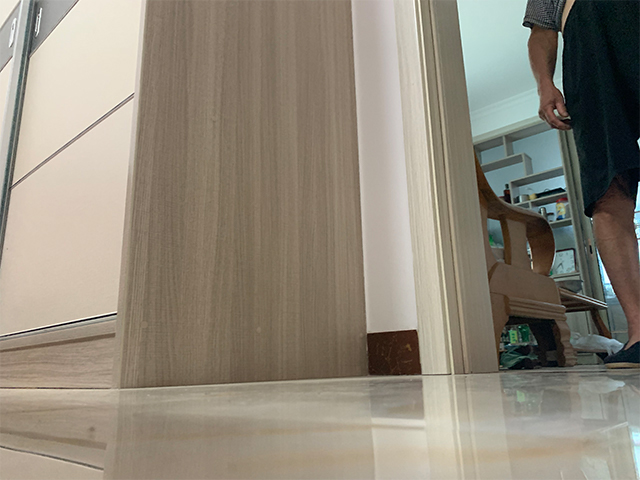cabinet: (1, 1, 370, 390)
stool: (473, 149, 578, 369)
